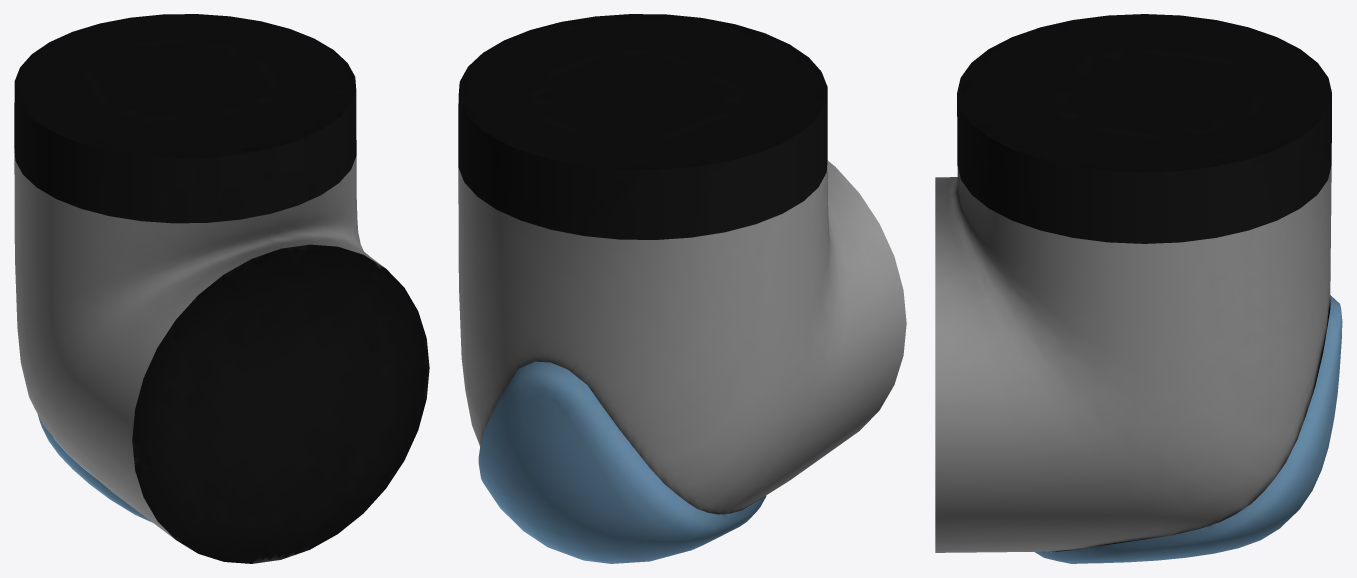
The model's file is wrist1.dae.
3 views of the same model, side by side, from view 1: azimuth 30°, elevation 25°; view 2: azimuth 150°, elevation 25°; view 3: azimuth 270°, elevation 25° (orthographic). The views are drawn at different scales.
Parts seen in each view (by area): view 1: wrist-1_001, wrist-1_pad_001; view 2: wrist-1_001, wrist-1_pad_001; view 3: wrist-1_001, wrist-1_pad_001.
Boxes of the visible parts, x1,y1,x2,y2 form: wrist-1_001: (14, 14, 429, 563); wrist-1_pad_001: (38, 415, 152, 522); wrist-1_001: (458, 14, 906, 514); wrist-1_pad_001: (478, 361, 766, 563); wrist-1_001: (935, 14, 1331, 552); wrist-1_pad_001: (1035, 295, 1342, 563).
Bounding box in the file's own units: 0.0902 × 0.0977 × 0.1198.
Materials: 3 (3 with a texture image).
